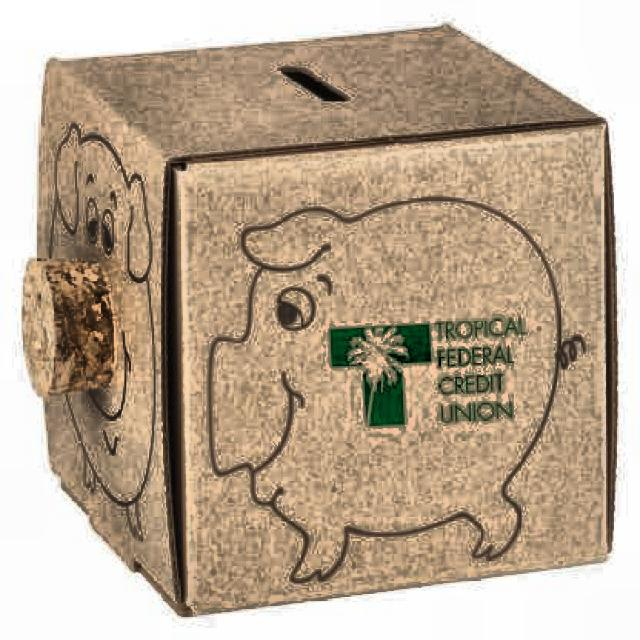Cardbox: (6, 9, 640, 625)
